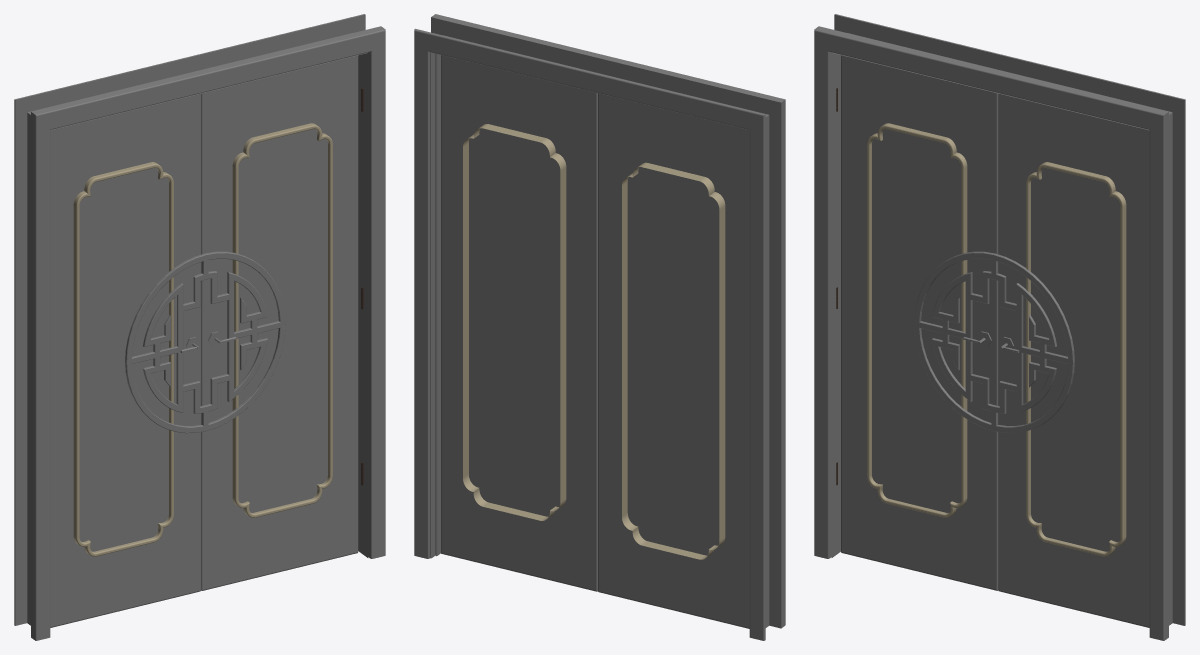
File: Door.FBX
3 renders of one model, left to right at view 1: azimuth 30°, elevation 25°; view 2: azimuth 150°, elevation 25°; view 3: azimuth 330°, elevation 25°, orthographic.
Visible parts, largest first — view 1: 3D溜溜网-模型不难找, Rectangle11; view 2: Rectangle11, 3D溜溜网-模型不难找; view 3: 3D溜溜网-模型不难找, Rectangle11.
Part boxes in pixels (x1,y1,x2,y2): 3D溜溜网-模型不难找: (14, 14, 385, 640); Rectangle11: (50, 55, 358, 627); Rectangle11: (441, 55, 749, 628); 3D溜溜网-模型不难找: (414, 14, 785, 640); 3D溜溜网-模型不难找: (814, 14, 1185, 640); Rectangle11: (841, 55, 1149, 627).
Size of the model in its own units: 65.06 by 93.35 by 7.1.
